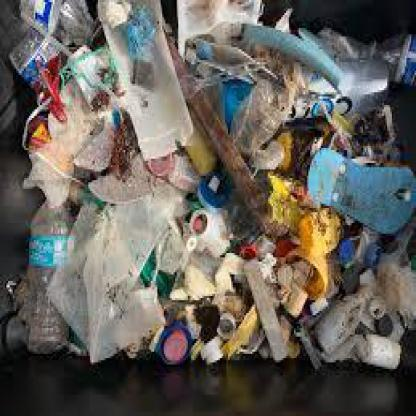Plastic: (307, 144, 415, 240), (22, 189, 74, 359), (354, 332, 403, 369)
